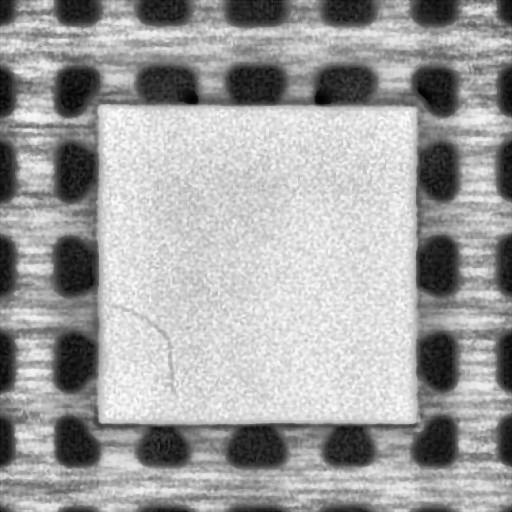DIE_CRACK: (112, 304, 178, 394)
